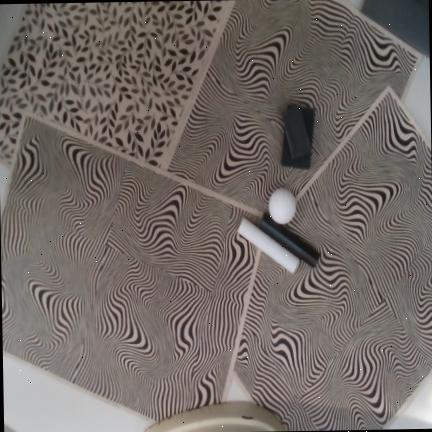Cilindro: (237, 217, 299, 274), (259, 212, 319, 266)
Esfera: (269, 188, 296, 224)
Paralelepipedo: (281, 104, 314, 169), (282, 104, 311, 159)
